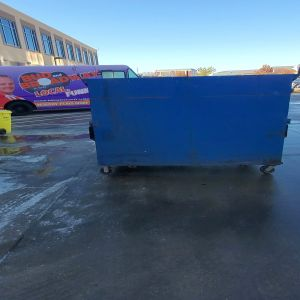Dumpster: (81, 76, 296, 179)
